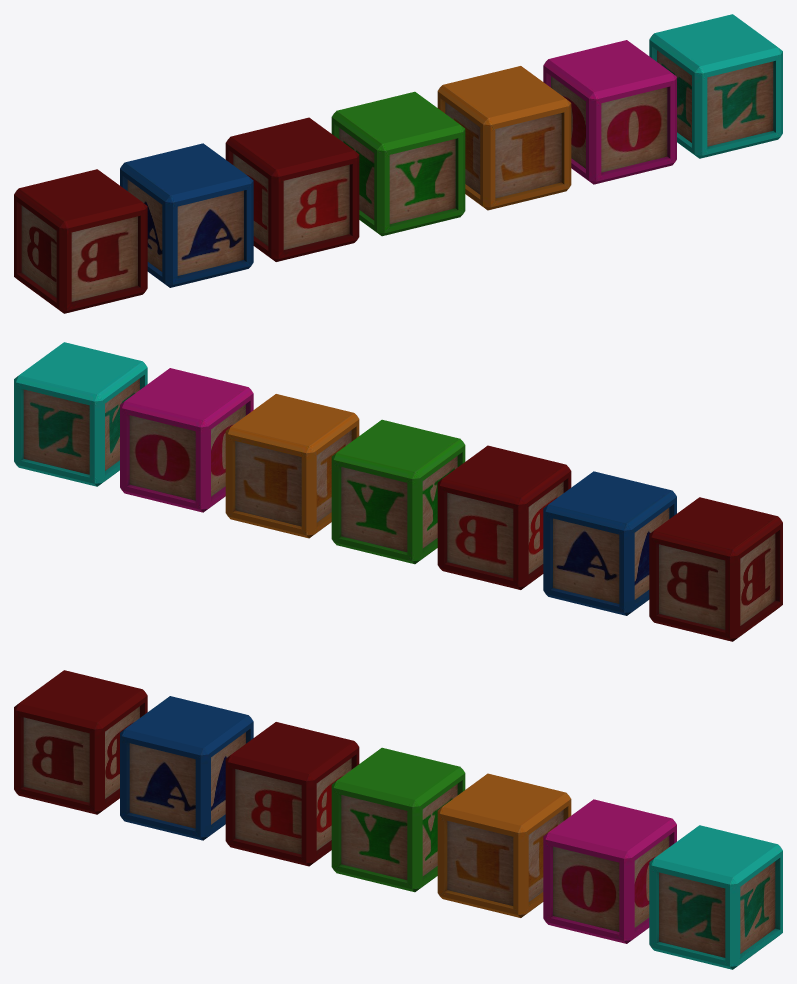
Rendered from CubesImageFormat.gltf.
3 views of the same model, one above another, from view 1: azimuth 30°, elevation 25°; view 2: azimuth 150°, elevation 25°; view 3: azimuth 330°, elevation 25° (orthographic).
Parts seen in each view (by area): view 1: B, B_2, Y, L, A, O, N; view 2: B, B_2, Y, L, A, O, N; view 3: N, L, Y, B_2, O, B, A.
Boxes of the visible parts, box(x1,y1,x2,y2) form: B: box(14, 169, 147, 313); B_2: box(225, 117, 359, 261); Y: box(331, 91, 465, 236); L: box(437, 66, 571, 210); A: box(120, 143, 253, 287); O: box(543, 40, 676, 184); N: box(649, 14, 782, 158); B: box(649, 497, 782, 641); B_2: box(437, 445, 571, 589); Y: box(331, 419, 465, 564); L: box(225, 394, 359, 538); A: box(543, 471, 676, 615); O: box(120, 368, 253, 512); N: box(14, 342, 147, 486); N: box(649, 825, 782, 969); L: box(437, 773, 571, 917); Y: box(331, 747, 465, 892); B_2: box(225, 722, 359, 866); O: box(543, 799, 676, 943); B: box(14, 670, 147, 814); A: box(120, 696, 253, 840).
Size of the model in its own units: 820 by 100 by 100.
Materials: 7 (7 with a texture image).
